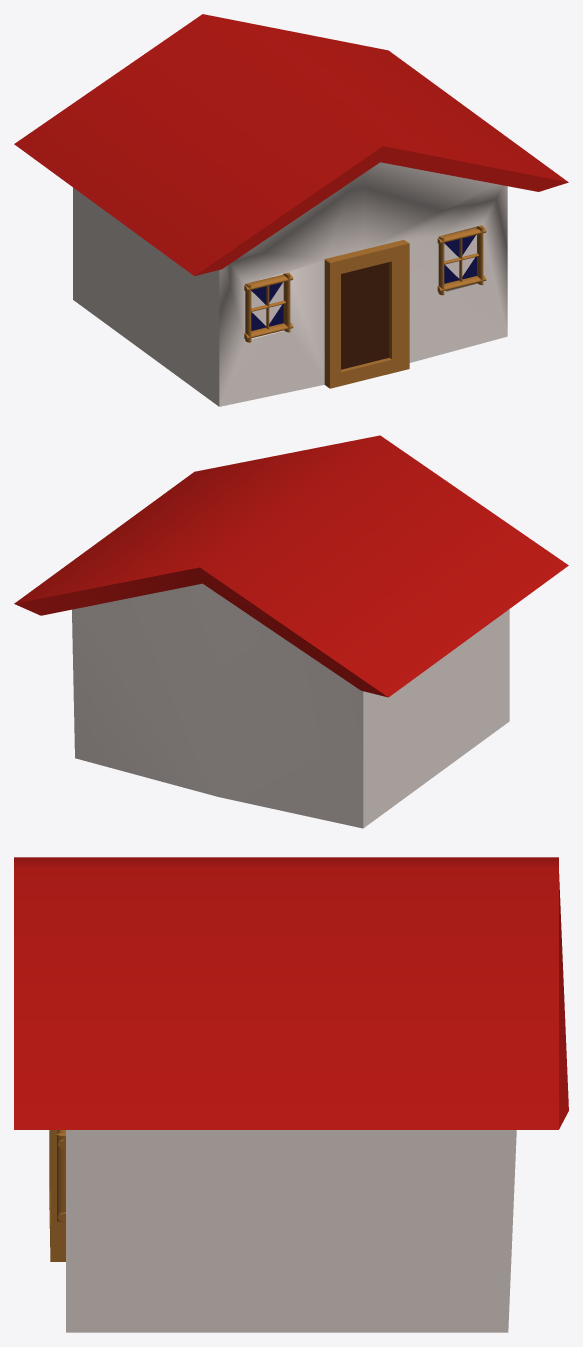
Rendered from House.fbx.
3 views of the same model, one above another, from view 1: azimuth 30°, elevation 25°; view 2: azimuth 150°, elevation 25°; view 3: azimuth 270°, elevation 25° (orthographic). The views are drawn at different scales.
Visible parts, largest first — view 1: House; view 2: House; view 3: House.
Boxes of the visible parts, x1,y1,x2,y2 form: House: (14,14,568,406); House: (14,435,568,828); House: (14,857,568,1332).
Bounding box in the file's own units: 108 × 66.48 × 91.7.
